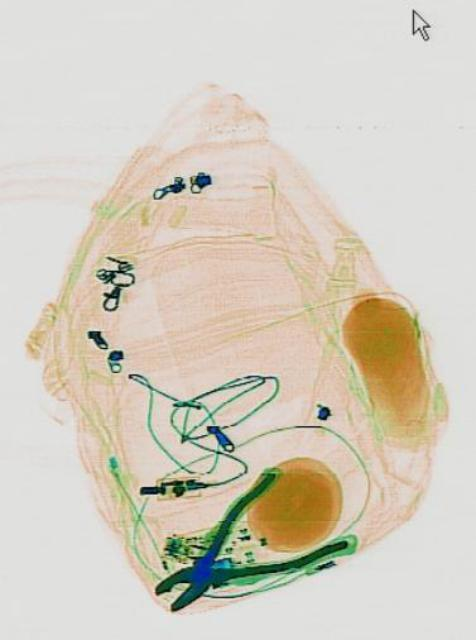Pliers: (138, 458, 322, 638)
